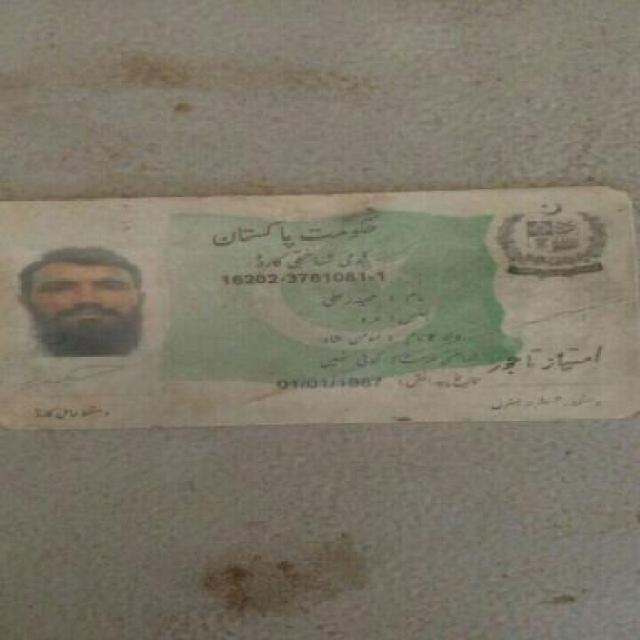Front: (0, 187, 638, 424)
